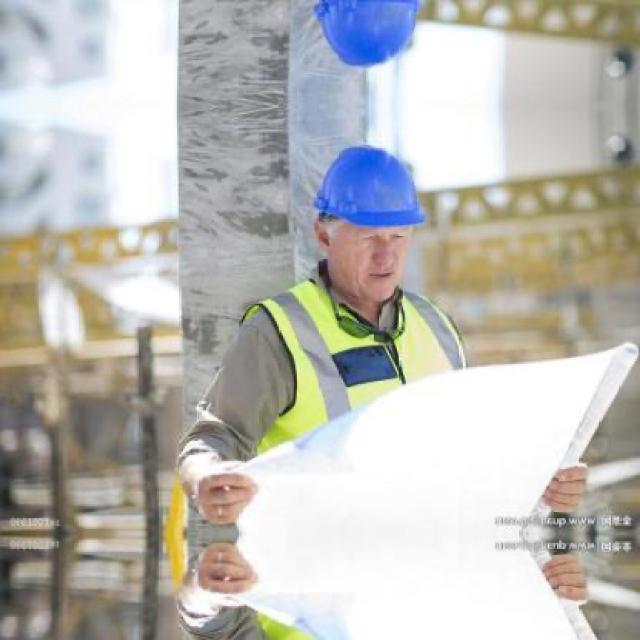con casco: (312, 145, 457, 315)
